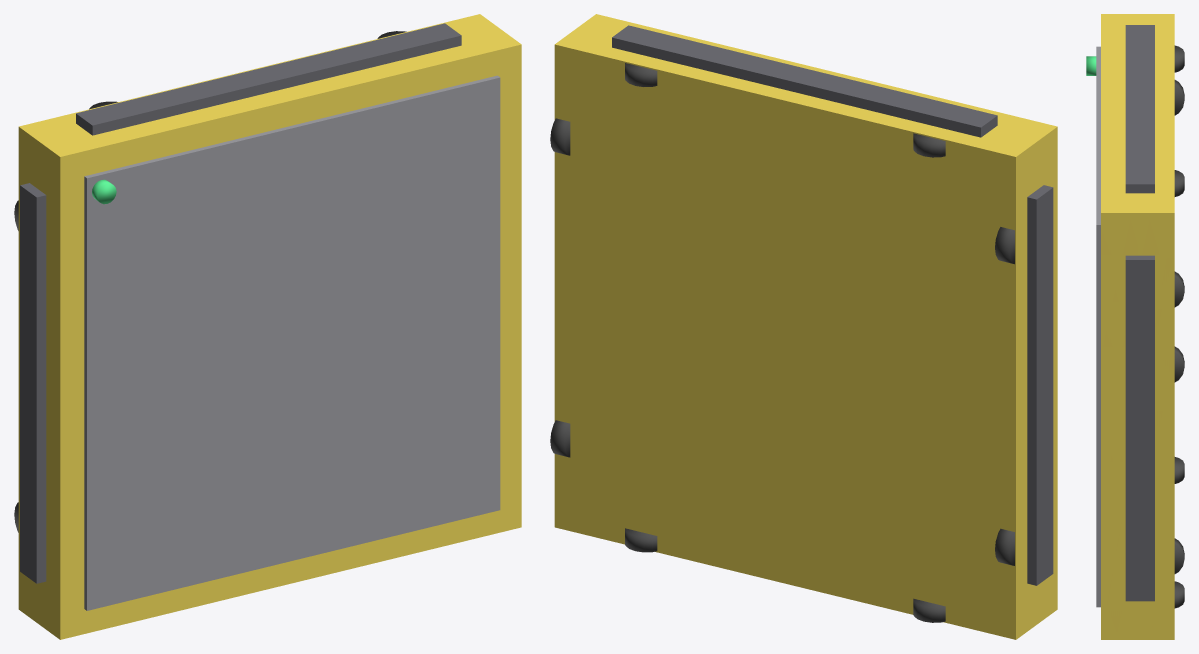
File: Shuttle.fbx
3 renders of one model, left to right at view 1: azimuth 30°, elevation 25°; view 2: azimuth 150°, elevation 25°; view 3: azimuth 270°, elevation 25°, orthographic. The views are drawn at different scales.
Parts seen in each view (by area): view 1: JackPlate, Chassis, BumperX_-1, BumperY_1; view 2: Chassis, BumperX_-1, BumperY_1; view 3: Chassis, BumperX_1, BumperY_1, JackPlate, WheelY_0, WheelY_3, WheelY_1, WheelY_2, WheelX_1, WheelX_2, WheelX_0, WheelX_3 (+1 smaller).
Boxes of the visible parts, x1,y1,x2,y2 form: JackPlate: (84, 75, 500, 610); Chassis: (18, 14, 521, 639); BumperX_-1: (20, 183, 46, 583); BumperY_1: (76, 23, 461, 135); Chassis: (554, 14, 1057, 639); BumperX_-1: (1027, 185, 1053, 585); BumperY_1: (612, 25, 997, 137); Chassis: (1101, 14, 1174, 639); BumperX_1: (1125, 255, 1154, 601); BumperY_1: (1125, 25, 1154, 193); JackPlate: (1096, 46, 1100, 607); WheelY_0: (1174, 346, 1184, 382); WheelY_3: (1174, 271, 1184, 307); WheelY_1: (1174, 80, 1184, 115); WheelY_2: (1174, 538, 1184, 573); WheelX_1: (1174, 45, 1184, 72); WheelX_2: (1174, 581, 1184, 608); WheelX_0: (1174, 457, 1184, 483); WheelX_3: (1174, 170, 1184, 196).
Bounding box in the file's own units: 1 × 1 × 0.2.
